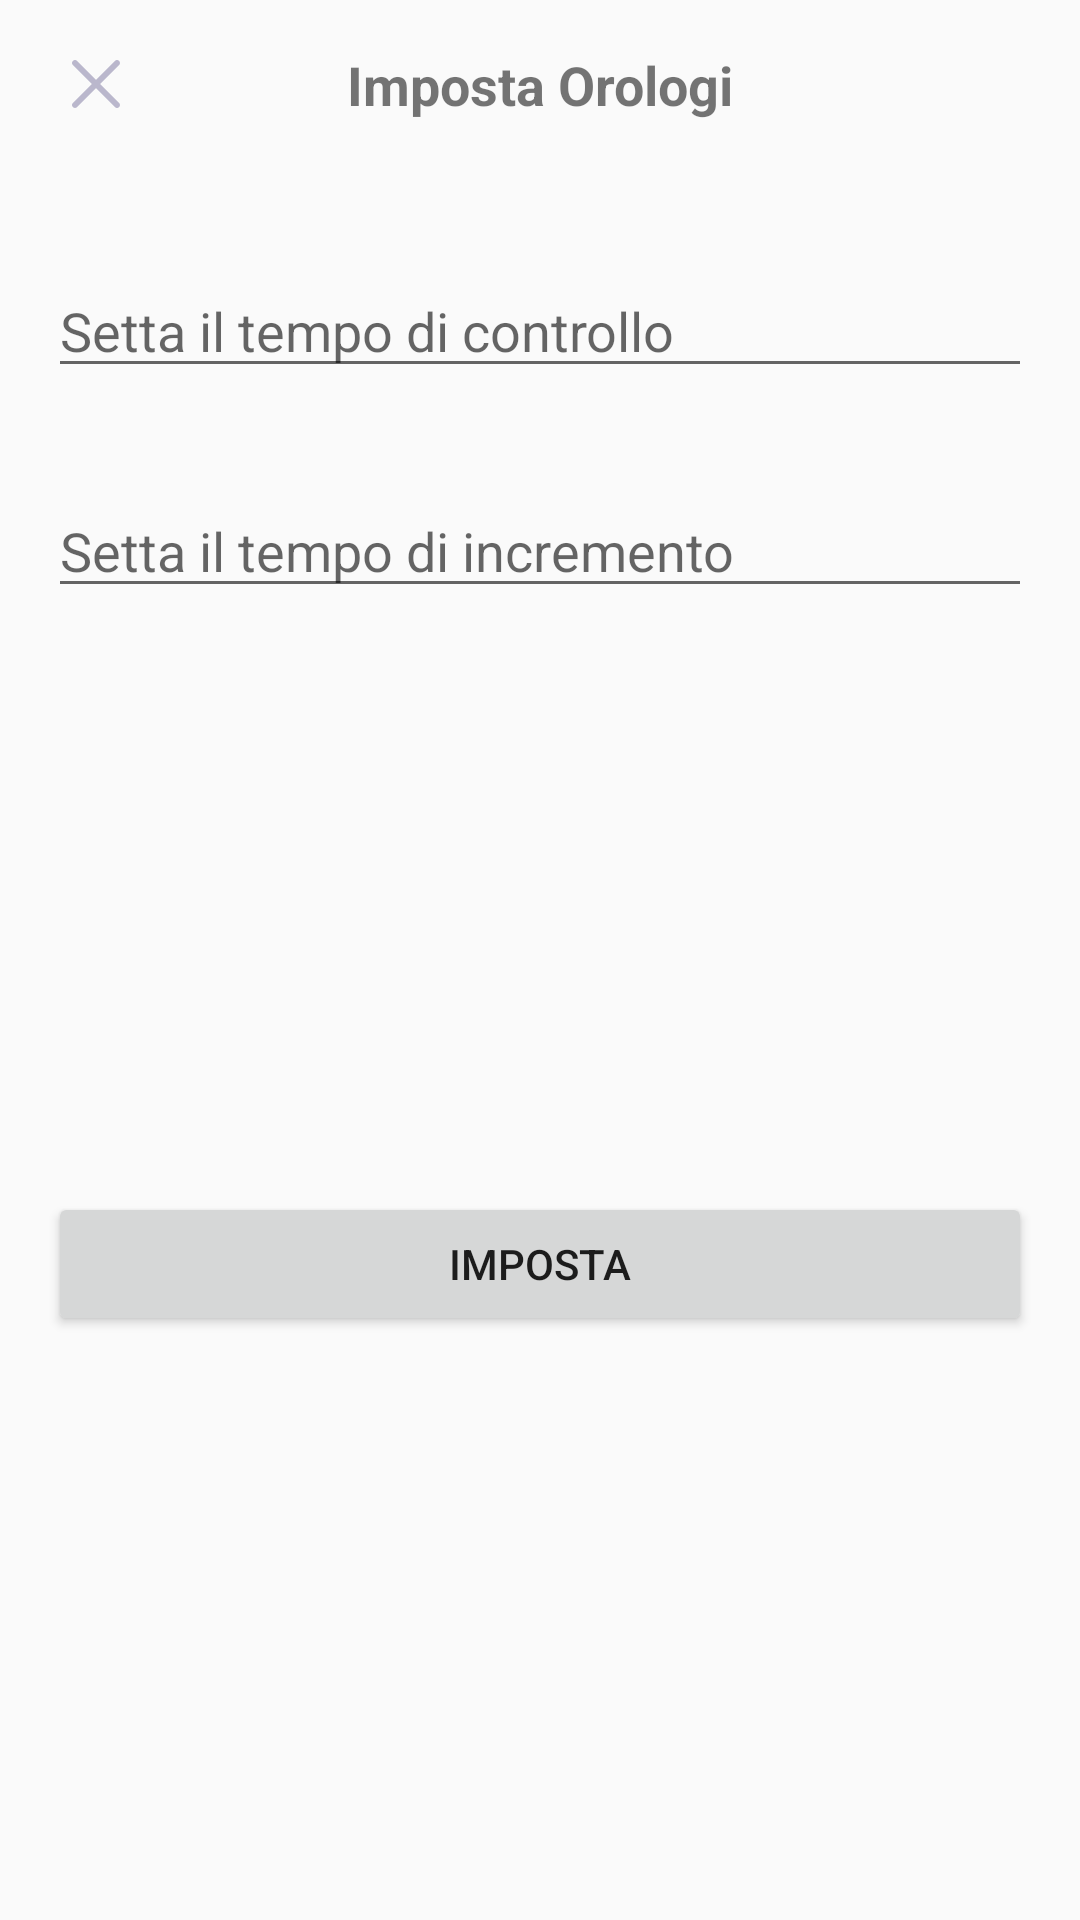

Where to tap for icons on this 1080w x 1920h app screen, as point (x, y):
cancel: point (96, 84)
